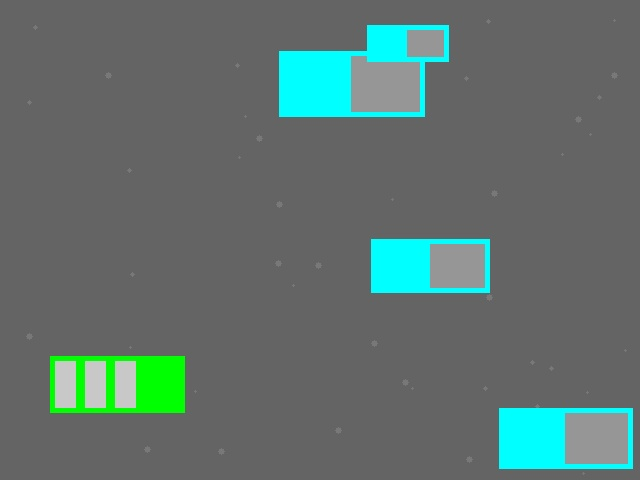bus: (50, 356, 184, 412)
truck: (279, 51, 424, 116), (499, 408, 632, 468), (371, 239, 489, 292), (367, 25, 448, 61)
